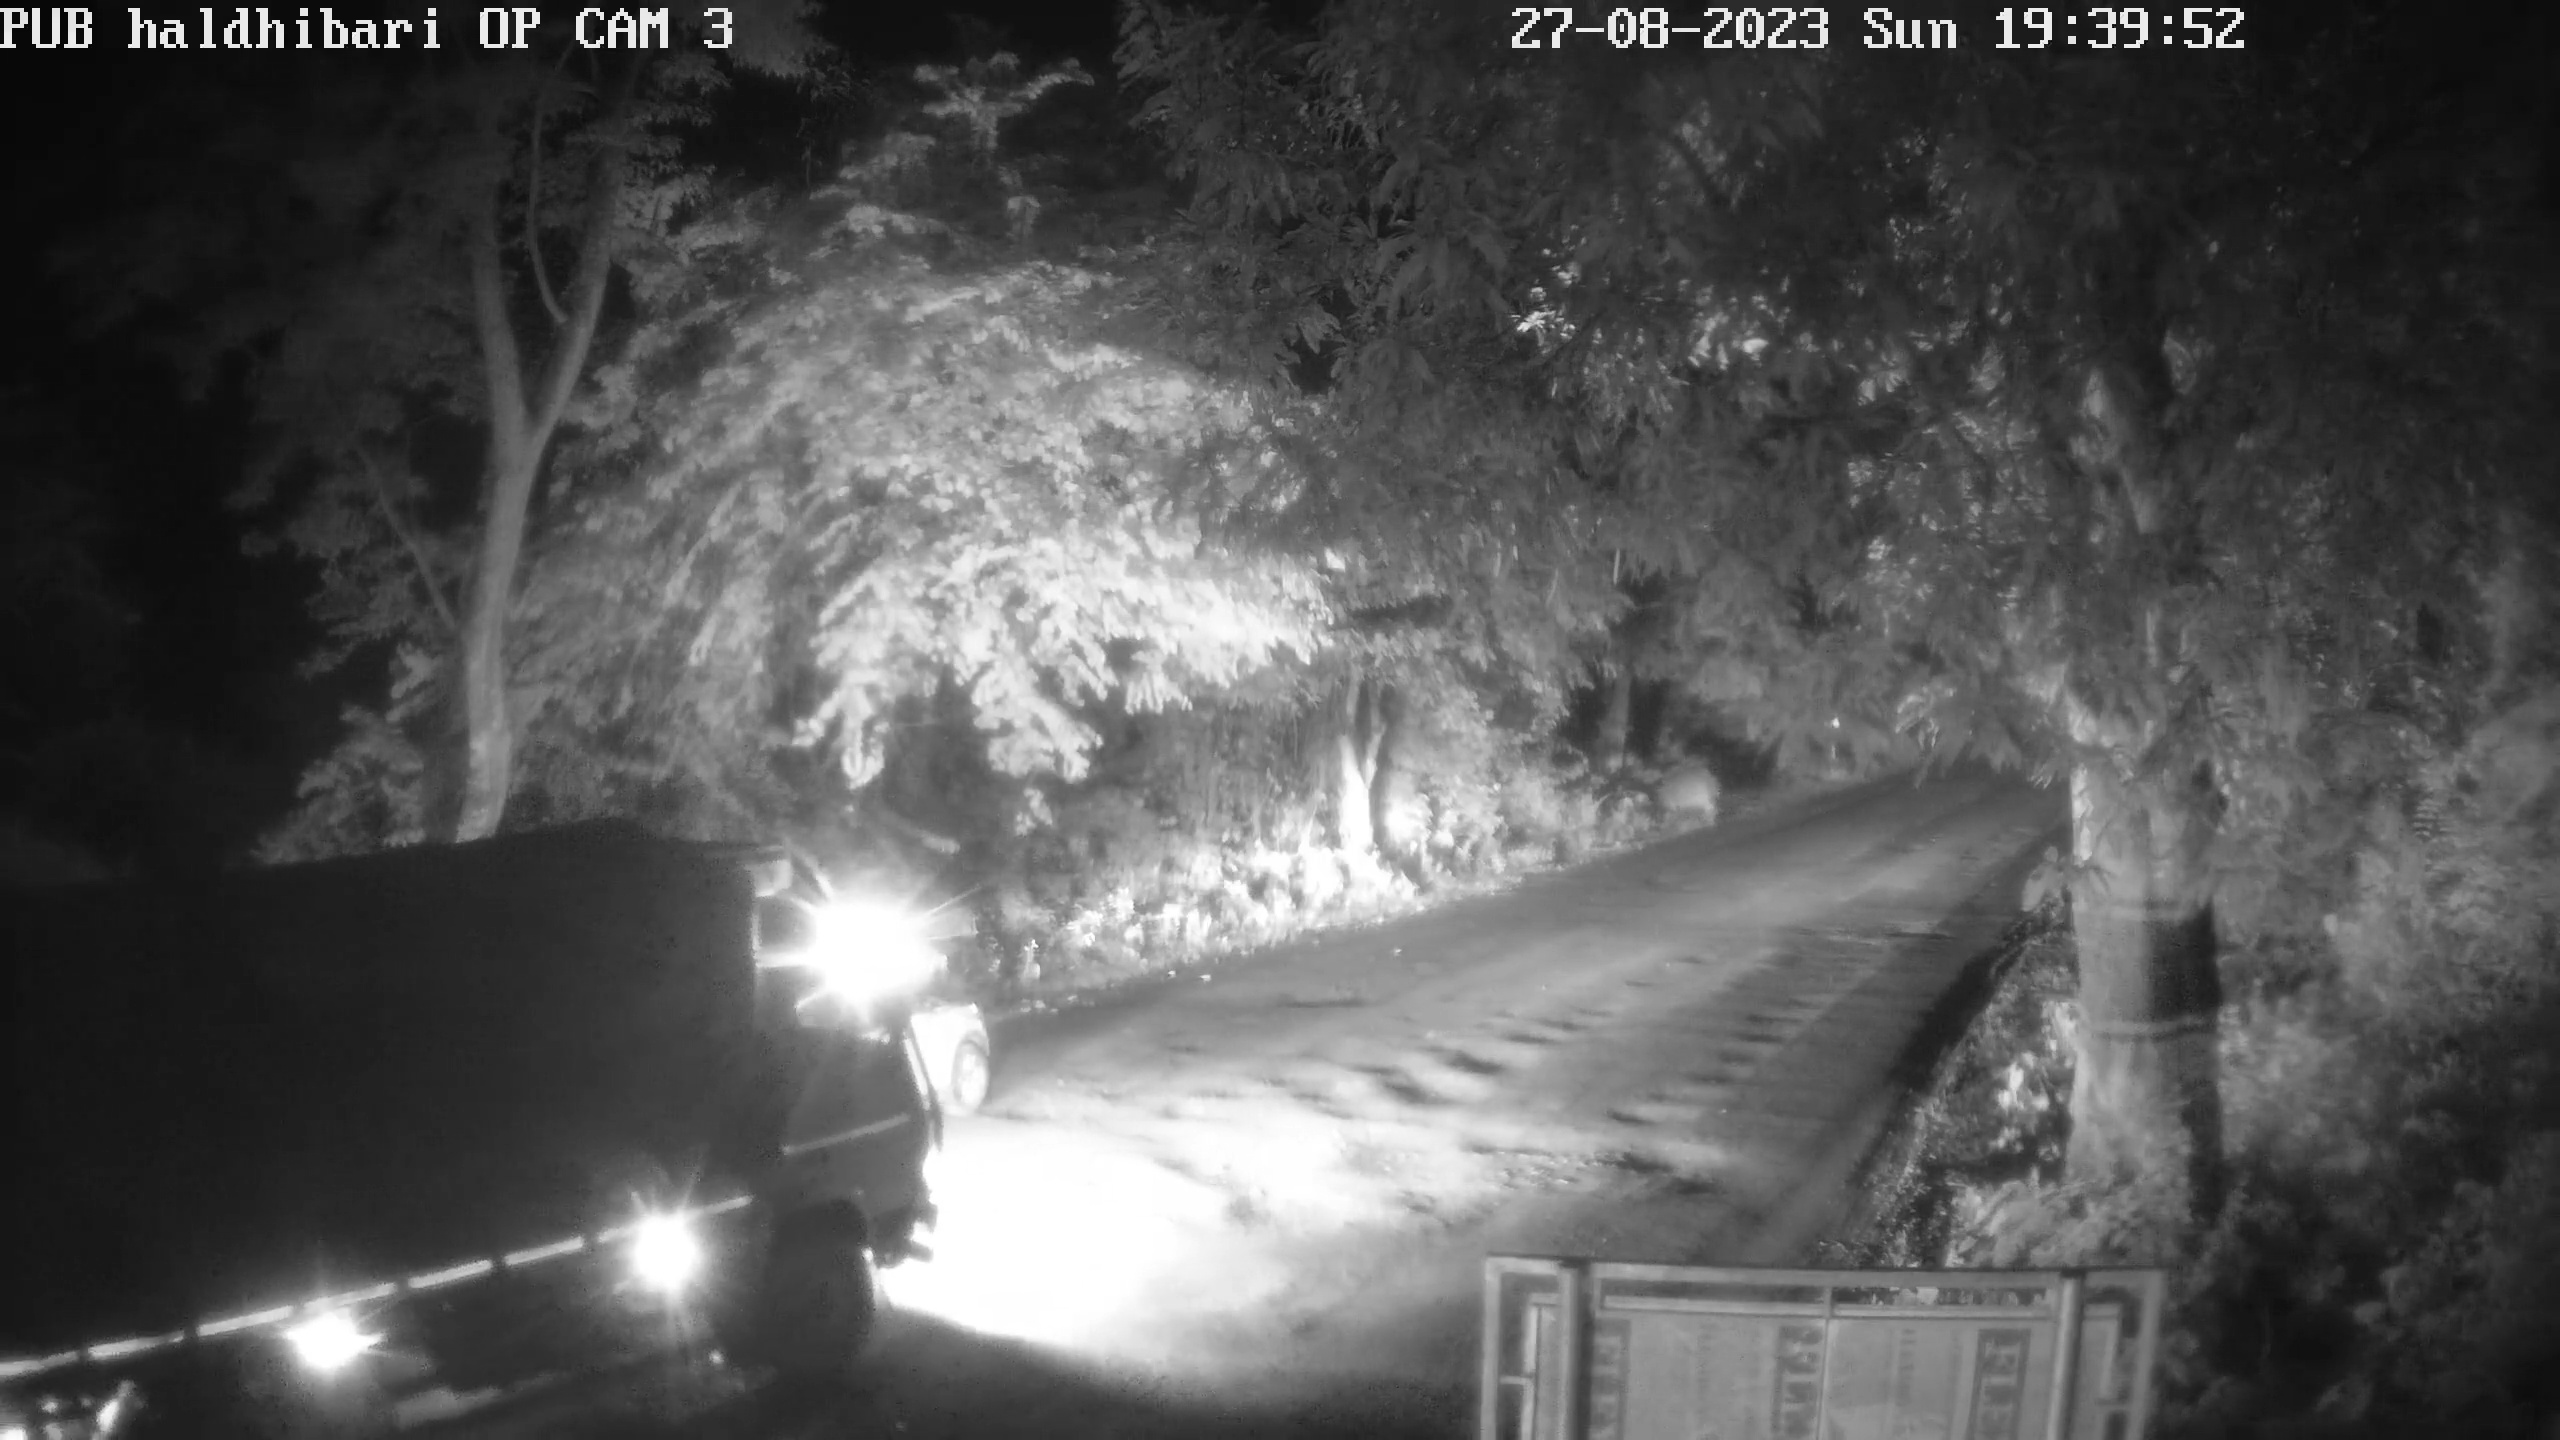rhinos: (1635, 761, 1727, 830)
